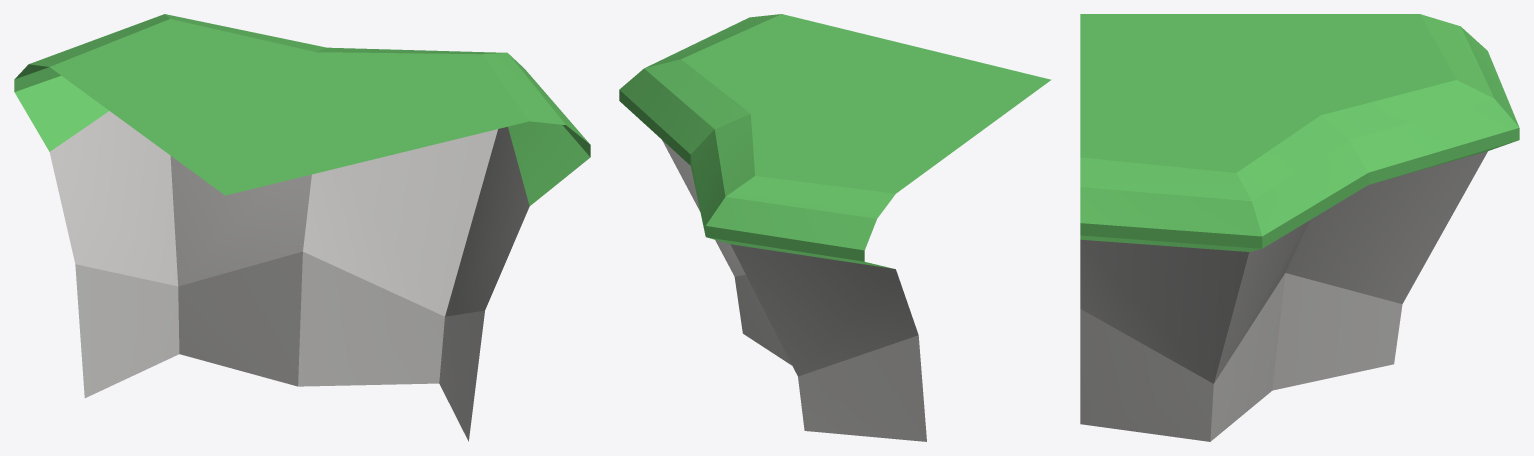
Rendered from Cliff_Terrain_Corner_Outer_2x2_Top.glb.
3 views of the same model, side by side, from view 1: azimuth 30°, elevation 25°; view 2: azimuth 150°, elevation 25°; view 3: azimuth 270°, elevation 25° (orthographic). The views are drawn at different scales.
Parts seen in each view (by area): view 1: Cliff_Terrain_Corner_Outer_2x2_Top; view 2: Cliff_Terrain_Corner_Outer_2x2_Top; view 3: Cliff_Terrain_Corner_Outer_2x2_Top.
Part boxes in pixels (x1=…): Cliff_Terrain_Corner_Outer_2x2_Top: x1=14, y1=14, x2=590, y2=441; Cliff_Terrain_Corner_Outer_2x2_Top: x1=619, y1=14, x2=1051, y2=441; Cliff_Terrain_Corner_Outer_2x2_Top: x1=1080, y1=14, x2=1519, y2=441.
Bounding box in the file's own units: 0.7276 × 0.54 × 0.7276.
